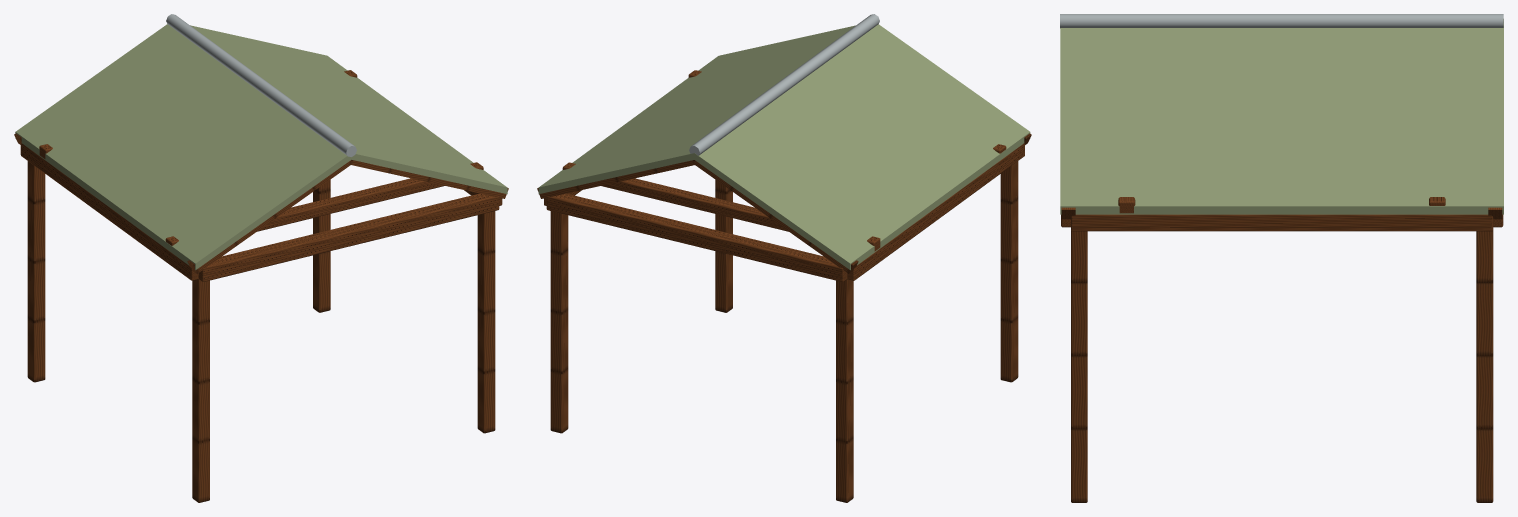
File: prehistoric-survivor-settlement-communal-crafting-cano-8c018510__23201.glb
The picture shows the model from 3 angles, left to right: view 1: azimuth 30°, elevation 25°; view 2: azimuth 150°, elevation 25°; view 3: azimuth 270°, elevation 25°; orthographic projection. The views are drawn at different scales.
Parts seen in each view (by area): view 1: communal-crafting-canopy; view 2: communal-crafting-canopy; view 3: communal-crafting-canopy.
Boxes of the visible parts, x1,y1,x2,y2 form: communal-crafting-canopy: (14, 14, 508, 502); communal-crafting-canopy: (537, 14, 1031, 502); communal-crafting-canopy: (1060, 14, 1503, 502).
Bounding box in the file's own units: 3.19 × 3.14 × 3.15.
Materials: 3 (1 with a texture image).
